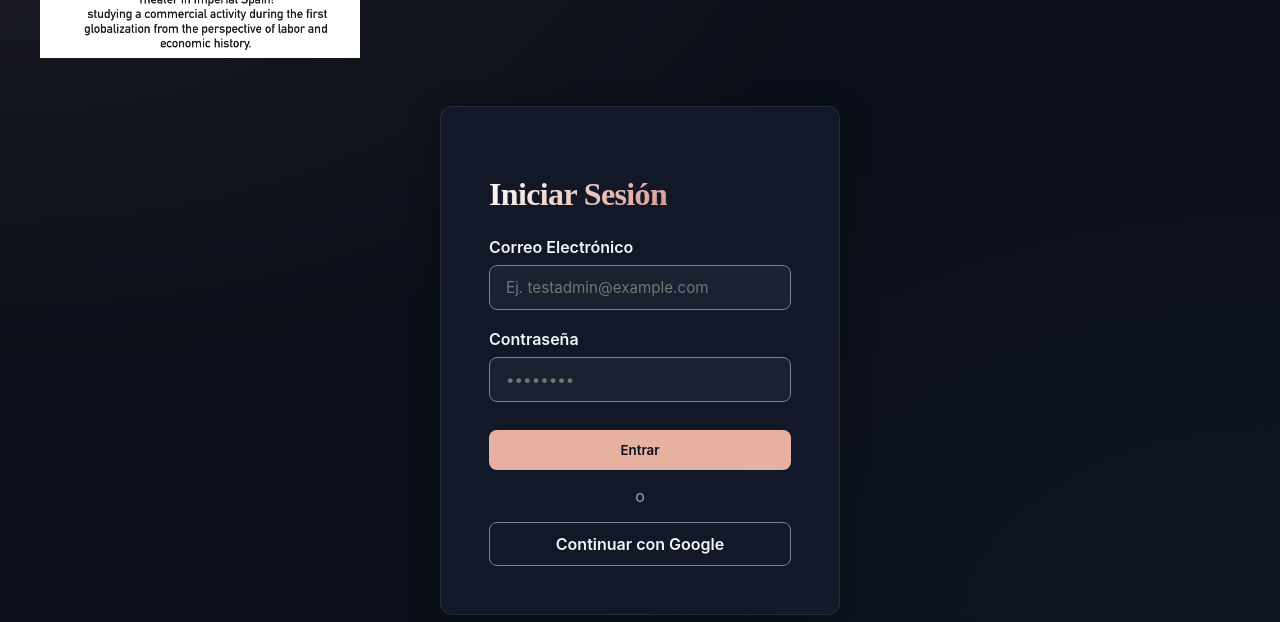
Test: Login con Google › pendiente: ambos botones quedan deshabilitados
This screenshot has width=1280, height=622.
(page scrolled)
Click the button "Continuar con Google".
click(640, 544)  # box [489,522,791,566]
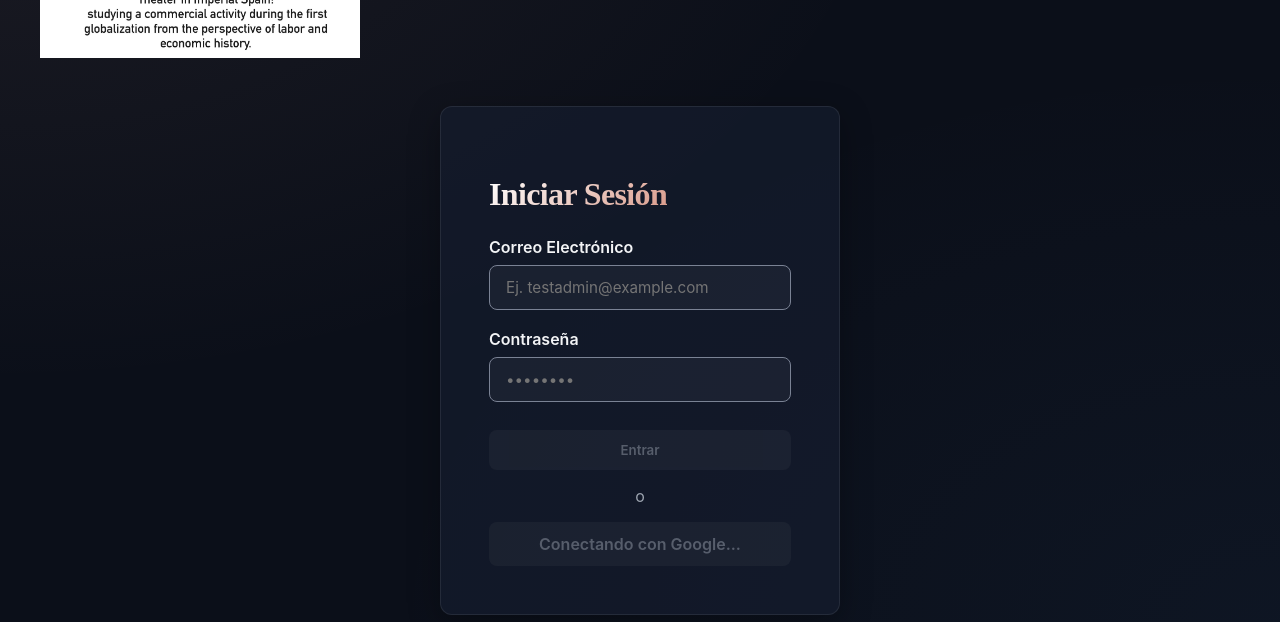
Expected: the button "Conectando con Google..." is disabled, [489,522,791,566]
Expected: the button "Entrar" is disabled, [489,430,791,470]
